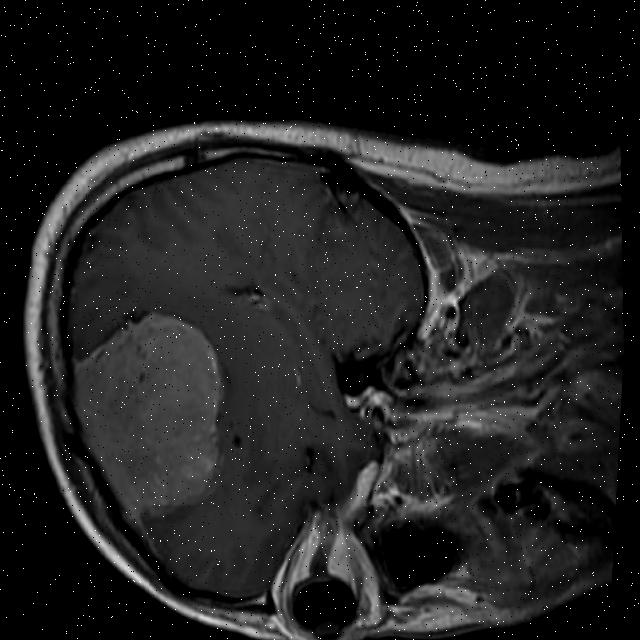Meningioma: (54, 294, 240, 530)
